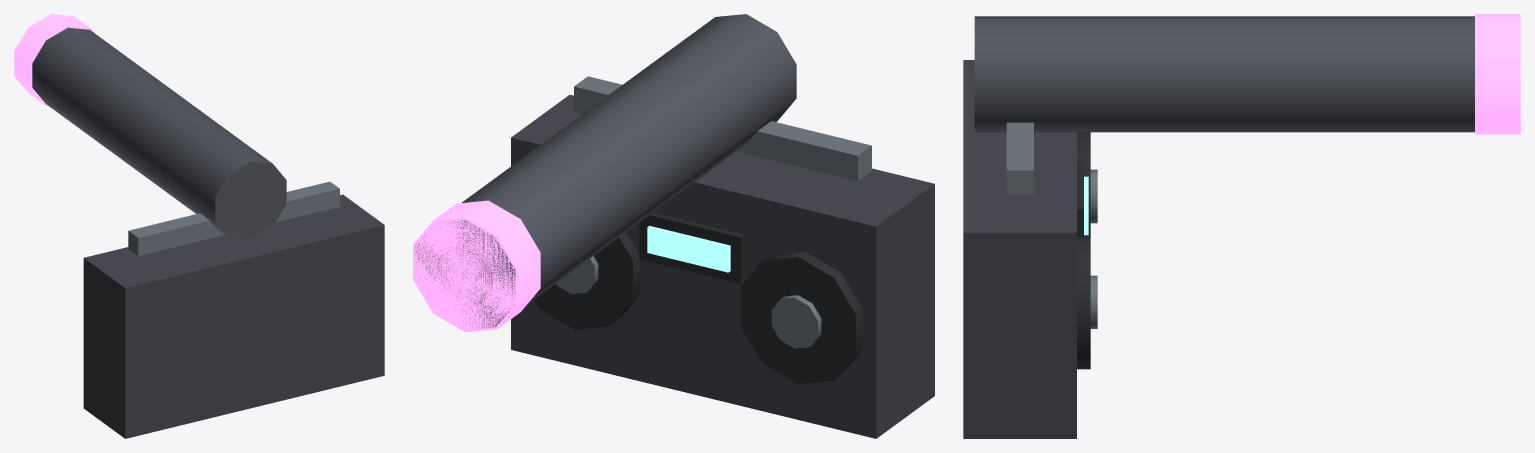
Rendered from boombox_launcher.glb.
The picture shows the model from 3 angles, left to right: view 1: azimuth 30°, elevation 25°; view 2: azimuth 150°, elevation 25°; view 3: azimuth 270°, elevation 25°; orthographic projection. The views are drawn at different scales.
Visible parts, largest first — view 1: Merged; view 2: Merged; view 3: Merged.
Boxes of the visible parts, <box> form: Merged: <box>14,14,384,438</box>; Merged: <box>413,14,934,438</box>; Merged: <box>963,14,1520,438</box>.
Bounding box in the file's own units: 0.351 × 0.3159 × 0.4778.
